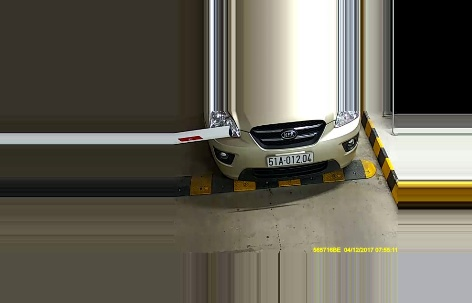plate: (264, 149, 315, 170)
